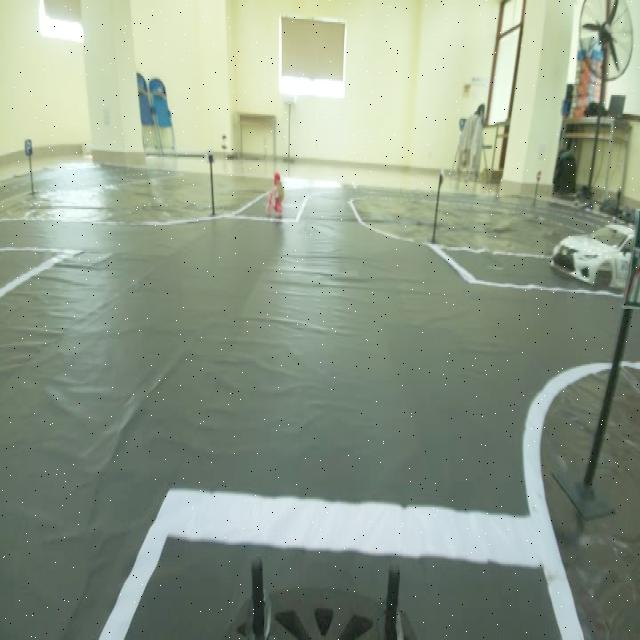highway_exit: (623, 216, 640, 310)
